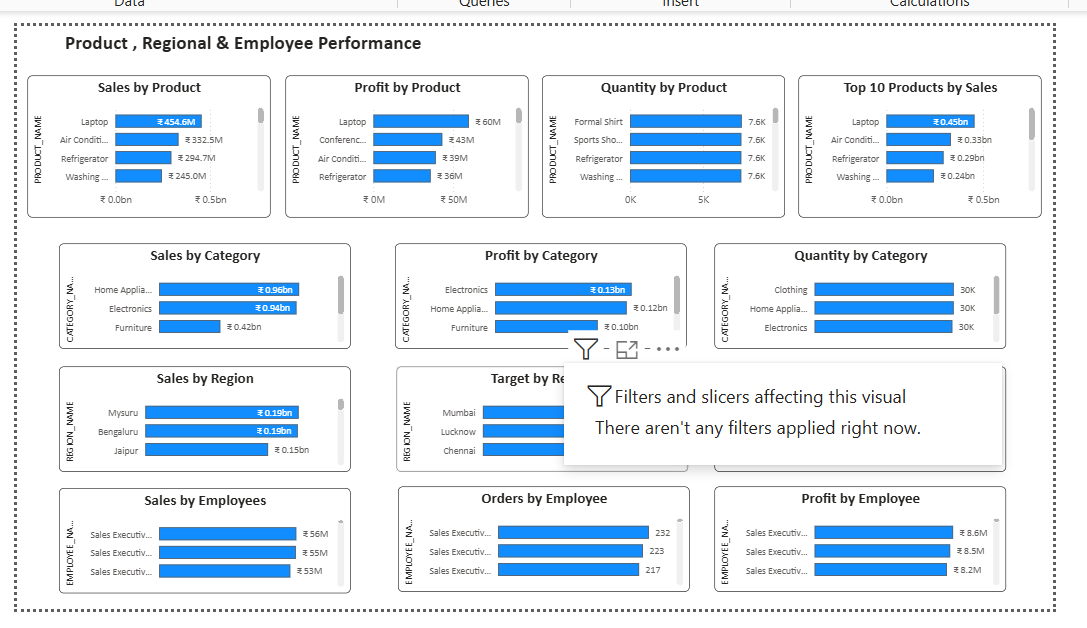

The page's visual inventory and layout, read from the dashboard file:
{"tool":"powerbi","page":{"name":"Product , Regional & Emplyoee Performace","canvas":[1280,720],"ordinal":2},"visuals":[{"type":"textbox","box":[0,0,558.6,47],"z":0},{"type":"clusteredBarChart","title":"Sales by Product","fields":{"Category":["SALES_PRODUCTS.PRODUCT_NAME"],"Y":["DAX_MEASURES.Total Sales"]},"box":[13.2,62,300,175],"z":1000},{"type":"clusteredBarChart","title":"Quantity by Product","fields":{"Category":["SALES_PRODUCTS.PRODUCT_NAME"],"Y":["DAX_MEASURES.Total Quantity"]},"box":[648,62,300,175],"z":2000},{"type":"clusteredBarChart","title":"Profit by Product","fields":{"Category":["SALES_PRODUCTS.PRODUCT_NAME"],"Y":["DAX_MEASURES.Total Profit"]},"box":[330.6,62,300,175],"z":3000},{"type":"clusteredBarChart","title":"Sales by Category","fields":{"Category":["SALES_CATEGORIES.CATEGORY_NAME"],"Y":["DAX_MEASURES.Total Sales"]},"box":[51.4,267.6,360,130],"z":4000},{"type":"clusteredBarChart","title":"Profit by Category","fields":{"Category":["SALES_CATEGORIES.CATEGORY_NAME"],"Y":["DAX_MEASURES.Total Profit"]},"box":[467.6,267.6,360,130],"z":5000},{"type":"clusteredBarChart","title":"Quantity by Category","fields":{"Category":["SALES_CATEGORIES.CATEGORY_NAME"],"Y":["DAX_MEASURES.Total Quantity"]},"box":[861.1,267.6,360,130],"z":6000},{"type":"clusteredBarChart","title":"Sales by Region","fields":{"Category":["SALES_REGIONS.REGION_NAME"],"Y":["DAX_MEASURES.Total Sales"]},"box":[51.9,419.5,360,130],"z":7000},{"type":"clusteredBarChart","title":"Target by Region","fields":{"Category":["SALES_REGIONS.REGION_NAME"],"Y":["DAX_MEASURES.Total Target"]},"box":[468,419.5,360,130],"z":8000},{"type":"clusteredBarChart","title":"Target Achievement by Region","fields":{"Category":["SALES_REGIONS.REGION_NAME"],"Y":["Calendar.Target Achievement % by Region"]},"box":[861.5,419.5,360,130],"z":9000},{"type":"clusteredBarChart","title":"Top 10 Products by Sales","fields":{"Category":["SALES_PRODUCTS.PRODUCT_NAME"],"Y":["DAX_MEASURES.Total Sales"]},"box":[965.3,62,300,175],"z":10000},{"type":"clusteredBarChart","title":"Sales by Employees","fields":{"Category":["SALES_EMPLOYEES.EMPLOYEE_NAME"],"Y":["DAX_MEASURES.Total Sales"]},"box":[51.7,570.3,360,130],"z":11000},{"type":"clusteredBarChart","title":"Orders by Employee","fields":{"Category":["SALES_EMPLOYEES.EMPLOYEE_NAME"],"Y":["DAX_MEASURES.Total Orders"]},"box":[469.5,568.7,360,130],"z":12000},{"type":"clusteredBarChart","title":"Profit by Employee","fields":{"Category":["SALES_EMPLOYEES.EMPLOYEE_NAME"],"Y":["DAX_MEASURES.Total Profit"]},"box":[861.3,568.7,360,130],"z":13000}]}

Visuals, with their boxes on the page's 1280x720 design canvas (x1, y1, x2, y2). These are canvas units, not pixel positions in the 1087x628 screenshot, which may show the page scaled, cropped or inside an application window:
textbox: x1=0, y1=0, x2=559, y2=47
"Sales by Product" clusteredBarChart: x1=13, y1=62, x2=313, y2=237
"Quantity by Product" clusteredBarChart: x1=648, y1=62, x2=948, y2=237
"Profit by Product" clusteredBarChart: x1=331, y1=62, x2=631, y2=237
"Sales by Category" clusteredBarChart: x1=51, y1=268, x2=411, y2=398
"Profit by Category" clusteredBarChart: x1=468, y1=268, x2=828, y2=398
"Quantity by Category" clusteredBarChart: x1=861, y1=268, x2=1221, y2=398
"Sales by Region" clusteredBarChart: x1=52, y1=420, x2=412, y2=550
"Target by Region" clusteredBarChart: x1=468, y1=420, x2=828, y2=550
"Target Achievement by Region" clusteredBarChart: x1=862, y1=420, x2=1222, y2=550
"Top 10 Products by Sales" clusteredBarChart: x1=965, y1=62, x2=1265, y2=237
"Sales by Employees" clusteredBarChart: x1=52, y1=570, x2=412, y2=700
"Orders by Employee" clusteredBarChart: x1=470, y1=569, x2=830, y2=699
"Profit by Employee" clusteredBarChart: x1=861, y1=569, x2=1221, y2=699
